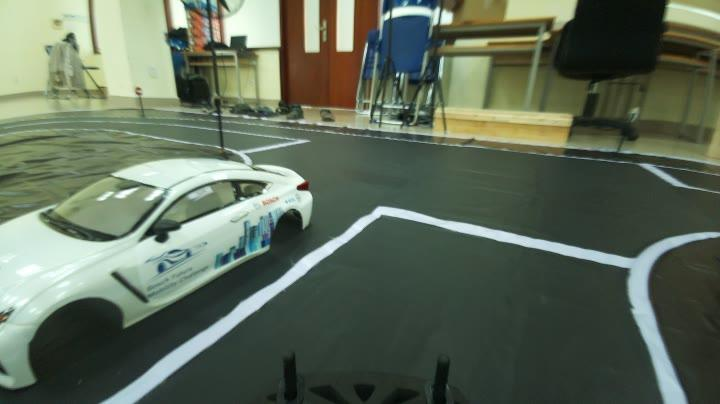car: (7, 132, 320, 378)
